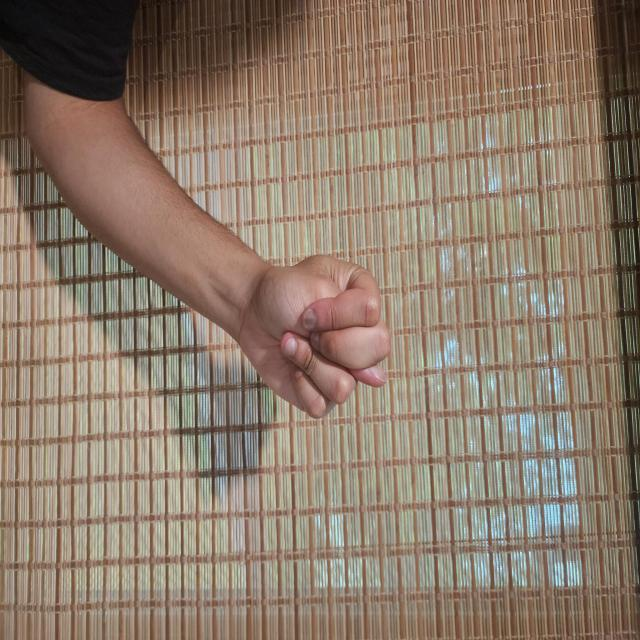N: (341, 328, 481, 534)
